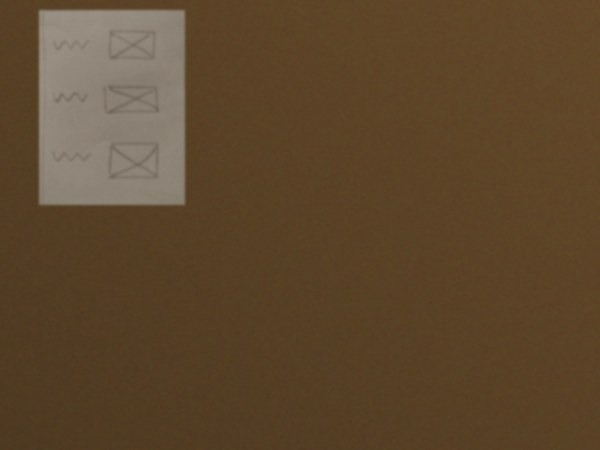image: (106, 141, 161, 182), (102, 82, 162, 117), (107, 26, 158, 63)
text: (51, 85, 90, 106), (50, 146, 93, 165), (51, 34, 91, 54)
